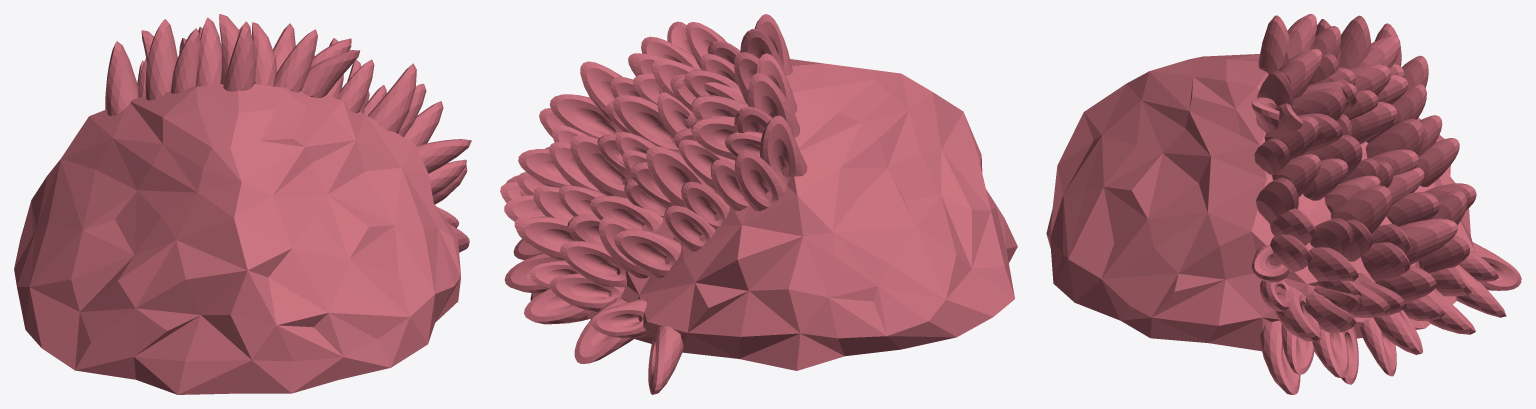
File: Coral4.fbx
The picture shows the model from 3 angles, left to right: view 1: azimuth 30°, elevation 25°; view 2: azimuth 150°, elevation 25°; view 3: azimuth 270°, elevation 25°; orthographic projection. The views are drawn at different scales.
Parts seen in each view (by area): view 1: Rock_with_Coral_1; view 2: Rock_with_Coral_1; view 3: Rock_with_Coral_1.
Boxes of the visible parts, x1,y1,x2,y2 form: Rock_with_Coral_1: (14,14,471,394); Rock_with_Coral_1: (500,14,1017,394); Rock_with_Coral_1: (1046,14,1521,394).
Size of the model in its own units: 113 by 68.77 by 106.
